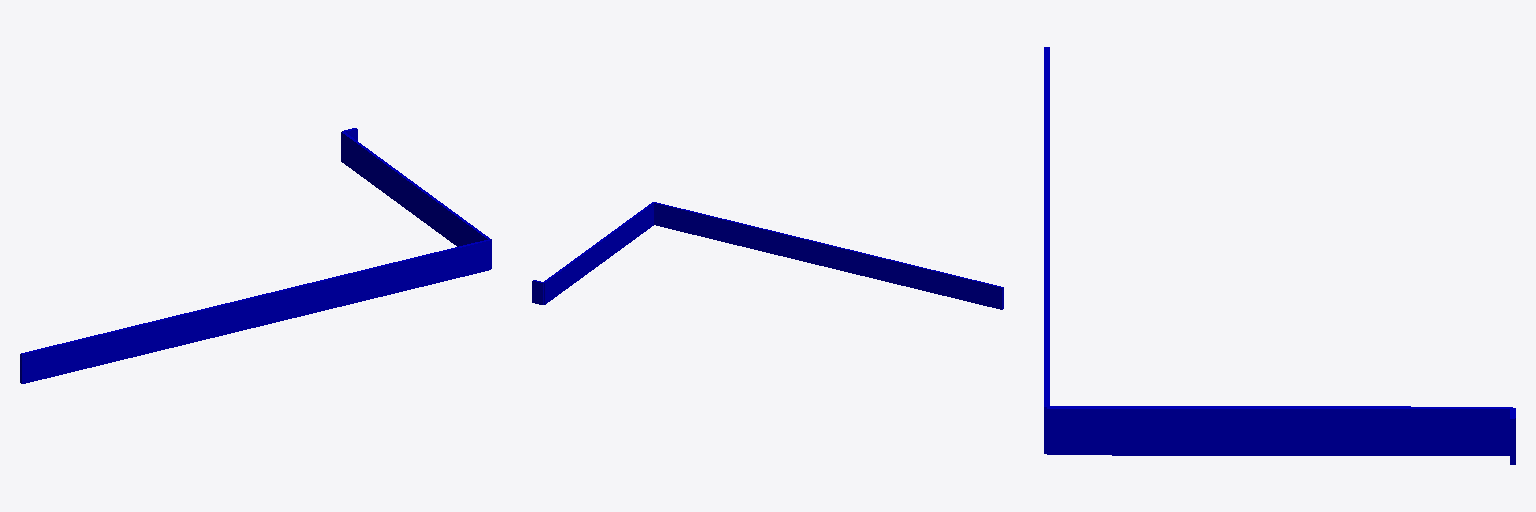
robot.urdf — three_dof_planar_manipulator:
<?xml version="1.0" ?>
<!-- =================================================================================== -->
<!-- |    This document was autogenerated by xacro from three_dof_planar_manipulator.urdf.xacro | -->
<!-- |    EDITING THIS FILE BY HAND IS NOT RECOMMENDED                                 | -->
<!-- =================================================================================== -->
<robot name="three_dof_planar_manipulator" xmlns:xacro="http://ros.org/wiki/xacro">
  <material name="blue">
    <color rgba="0 0 0.8 1"/>
  </material>
  <material name="green">
    <color rgba="0.0 0.8 0.0 1.0"/>
  </material>
  <link name="link1">
    <visual>
      <geometry>
        <box size="0.05 0.001 0.01"/>
      </geometry>
      <material name="blue"/>
      <origin rpy="0 0 0" xyz="0.025 0 0.0"/>
    </visual>
  </link>
  <joint name="joint1" type="revolute">
    <axis xyz="0 0 1"/>
    <limit effort="1000.0" lower="-1.57" upper="1.57" velocity="0.5"/>
    <origin rpy="0 0 0" xyz="0.05 0 0"/>
    <parent link="link1"/>
    <child link="dummy1"/>
  </joint>
  <link name="dummy1">
    <visual>
      <geometry>
        <box size="0.115 0.001 0.01"/>
      </geometry>
      <material name="blue"/>
      <origin rpy="0 0 0" xyz="0.0575 0 0.0"/>
    </visual>
  </link>
  <joint name="fixed1" type="fixed">
    <origin rpy="0 0 1.57" xyz="0.115 0 0"/>
    <parent link="dummy1"/>
    <child link="link2"/>
  </joint>
  <link name="link2">
    <visual>
      <geometry>
        <box size="0.025 0.001 0.01"/>
      </geometry>
      <material name="blue"/>
      <origin rpy="0 0 0" xyz="0.0125 0 0.0"/>
    </visual>
  </link>
  <joint name="joint2" type="revolute">
    <axis xyz="0 0 1"/>
    <limit effort="1000.0" lower="-1.57" upper="1.57" velocity="0.5"/>
    <origin rpy="0 0 0" xyz="0.025 0 0"/>
    <parent link="link2"/>
    <child link="dummy2"/>
  </joint>
  <link name="dummy2">
    <visual>
      <geometry>
        <box size="0.065 0.001 0.01"/>
      </geometry>
      <material name="blue"/>
      <origin rpy="0 0 0" xyz="0.0325 0 0.0"/>
    </visual>
  </link>
  <joint name="fixed2" type="fixed">
    <origin rpy="0 0 -1.5708" xyz="0.065 0 0"/>
    <parent link="dummy2"/>
    <child link="link3"/>
  </joint>
  <link name="link3">
    <visual>
      <geometry>
        <box size="0.005 0.001 0.01"/>
      </geometry>
      <material name="blue"/>
      <origin rpy="0 0 0" xyz="0.0025 0 0.0"/>
    </visual>
  </link>
  <joint name="joint3" type="revolute">
    <axis xyz="0 0 1"/>
    <limit effort="1000.0" lower="-1.57" upper="1.57" velocity="0.5"/>
    <origin rpy="0 0 0" xyz="0.005 0 0"/>
    <parent link="link3"/>
    <child link="eff"/>
  </joint>
  <link name="eff">
   
   </link>
</robot>

--- Facts derived from the render (not from the file) ---
The picture shows the robot from 3 angles, left to right: view 1: azimuth 30°, elevation 25°; view 2: azimuth 150°, elevation 25°; view 3: azimuth 270°, elevation 25°; orthographic projection.
Robot: three_dof_planar_manipulator — 6 links, 5 joints (3 revolute, 2 fixed); root link link1; default pose: all joints at 0.
Visible links, largest first — view 1: dummy1, link1, dummy2, link2; view 2: dummy1, link1, dummy2, link2; view 3: dummy2, link2, dummy1, link1.
Link boxes in pixels (bbox=[...]): dummy1: bbox=[163, 239, 490, 349]; link1: bbox=[20, 319, 163, 383]; dummy2: bbox=[341, 131, 449, 239]; link2: bbox=[448, 209, 491, 268]; dummy1: bbox=[654, 202, 896, 283]; link1: bbox=[896, 261, 1003, 309]; dummy2: bbox=[544, 225, 623, 304]; link2: bbox=[622, 202, 653, 246]; dummy2: bbox=[1176, 406, 1512, 455]; link2: bbox=[1047, 406, 1175, 455]; dummy1: bbox=[1044, 156, 1049, 453]; link1: bbox=[1044, 47, 1049, 155].
Bounding box of the posed robot: 0.1701 × 0.091 × 0.01 m (x, y, z).
Geometry: primitives only (box / cylinder / sphere), no mesh files.